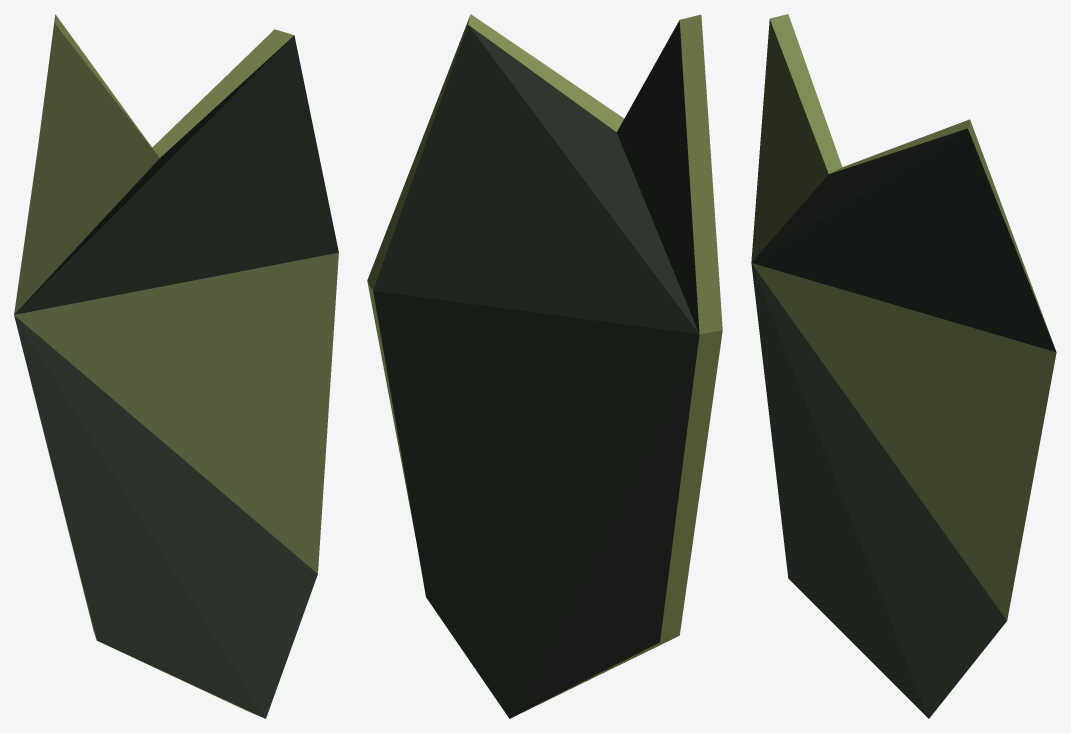
Rendered from wine_bottle_piece_front.glb.
3 views of the same model, side by side, from view 1: azimuth 30°, elevation 25°; view 2: azimuth 150°, elevation 25°; view 3: azimuth 330°, elevation 25° (orthographic). The views are drawn at different scales.
Visible parts, largest first — view 1: Curved solid jagged glass.006; view 2: Curved solid jagged glass.006; view 3: Curved solid jagged glass.006.
Part boxes in pixels (x1,y1,x2,y2): Curved solid jagged glass.006: (14,14,338,718); Curved solid jagged glass.006: (367,14,722,718); Curved solid jagged glass.006: (751,14,1056,718).
Bounding box in the file's own units: 0.0508 × 0.106 × 0.0126.
